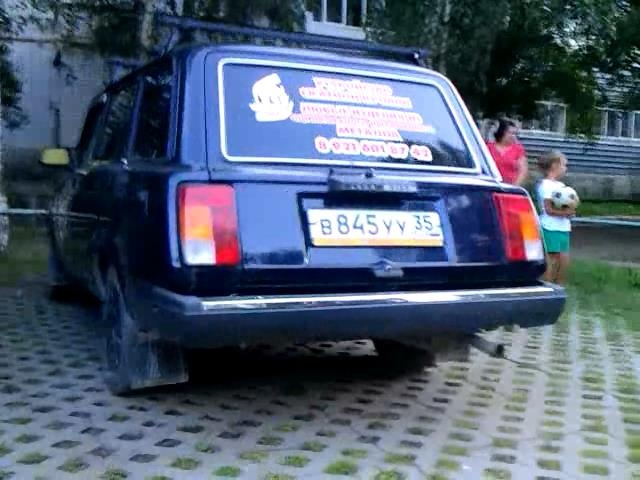car license plate: (306, 205, 444, 253)
